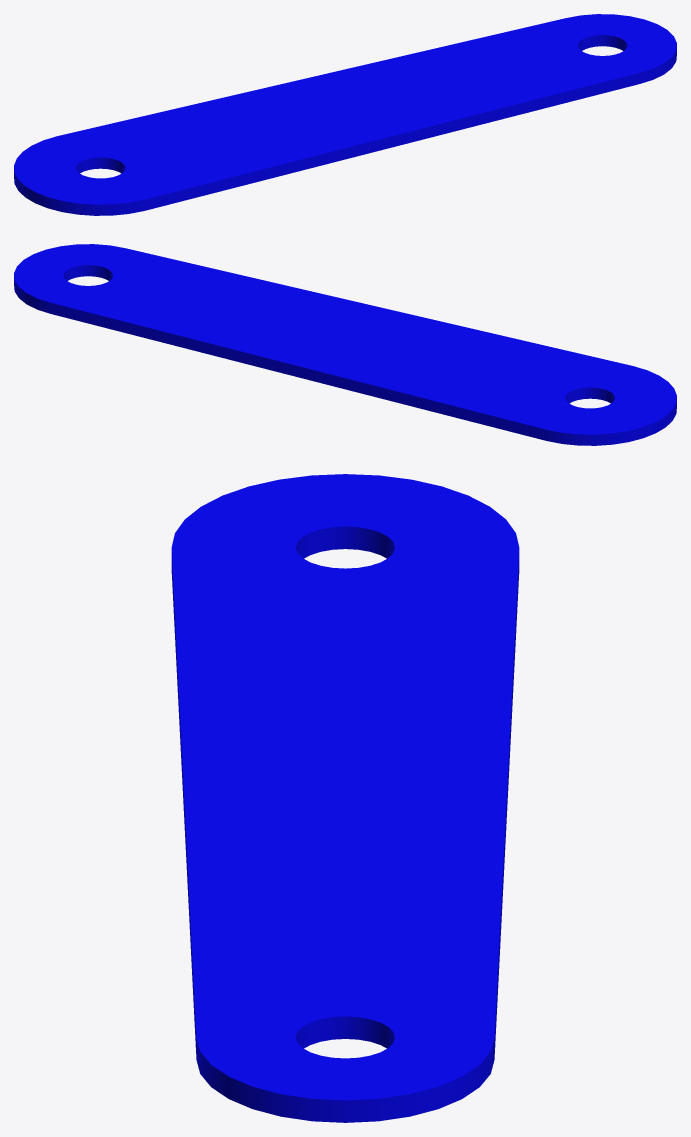
The model's file is level two0.dae.
The picture shows the model from 3 angles, top to bottom: view 1: azimuth 30°, elevation 25°; view 2: azimuth 150°, elevation 25°; view 3: azimuth 270°, elevation 25°; orthographic projection. The views are drawn at different scales.
Visible parts, largest first — view 1: Body_1; view 2: Body_1; view 3: Body_1.
Boxes of the visible parts, box(x1,y1,x2,y2) form: Body_1: box(14, 14, 676, 215); Body_1: box(14, 244, 676, 445); Body_1: box(171, 474, 519, 1122).
Size of the model in its own units: 0.2983 by 0.07 by 0.005.
